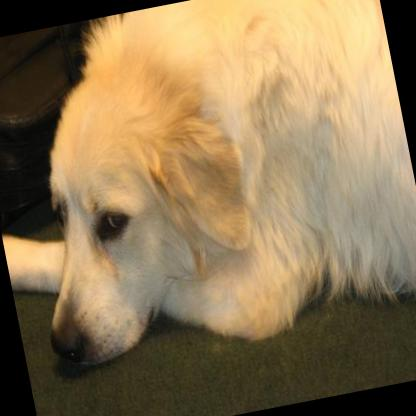Great_Pyrenees: (0, 0, 416, 384)
